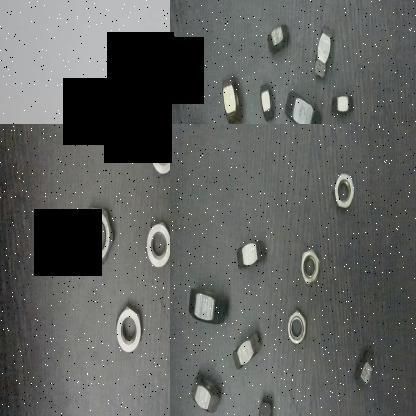NUTS: (76, 205, 113, 265), (185, 278, 229, 324), (308, 14, 334, 90), (279, 85, 327, 124), (110, 302, 145, 354), (216, 70, 247, 124), (141, 216, 170, 272), (228, 328, 263, 374), (232, 230, 268, 272), (188, 372, 224, 414), (328, 165, 356, 210), (294, 242, 320, 286), (147, 126, 170, 175), (351, 347, 376, 390), (264, 20, 292, 58), (285, 304, 307, 352), (256, 76, 274, 124), (330, 86, 356, 119), (108, 72, 126, 106), (90, 86, 107, 121), (121, 92, 141, 121), (254, 395, 274, 416), (102, 107, 121, 124)
